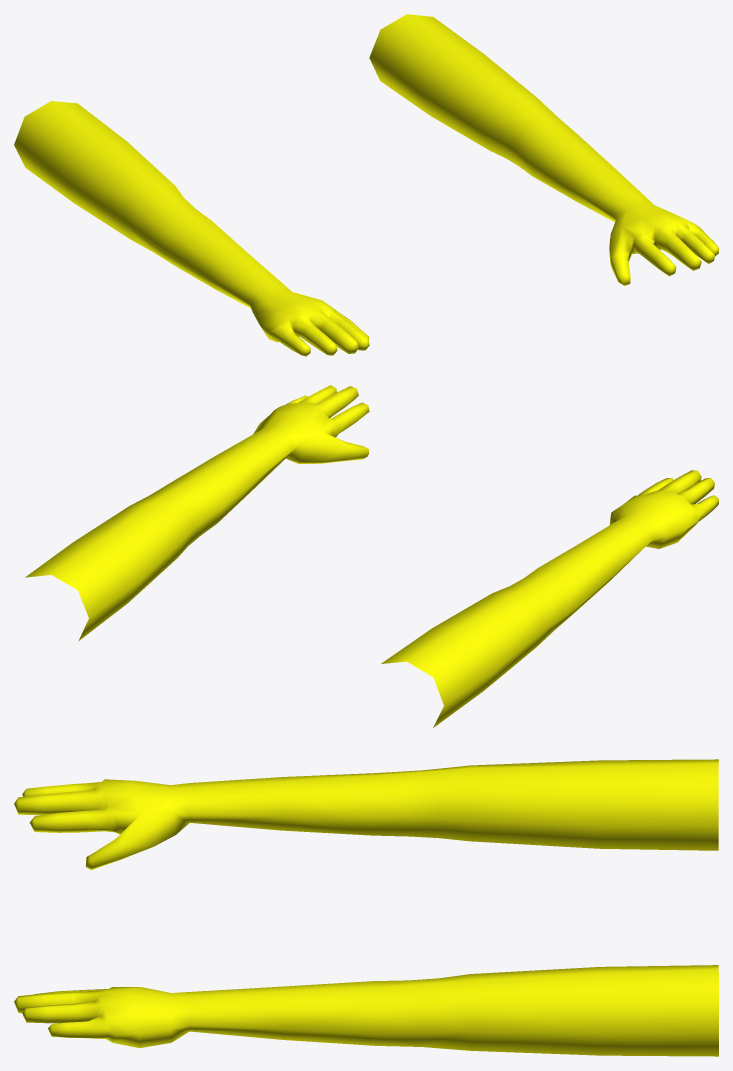
Rendered from arms_low_poly.glb.
3 views of the same model, one above another, from view 1: azimuth 30°, elevation 25°; view 2: azimuth 150°, elevation 25°; view 3: azimuth 270°, elevation 25° (orthographic). The views are drawn at different scales.
Parts seen in each view (by area): view 1: Arm; view 2: Arm; view 3: Arm.
Part boxes in pixels (bbox=[...]): Arm: bbox=[14, 14, 718, 356]; Arm: bbox=[25, 385, 718, 727]; Arm: bbox=[14, 759, 718, 1056].
Size of the model in its own units: 1.24 by 0.1886 by 1.47.
1 material, 1 textured.
